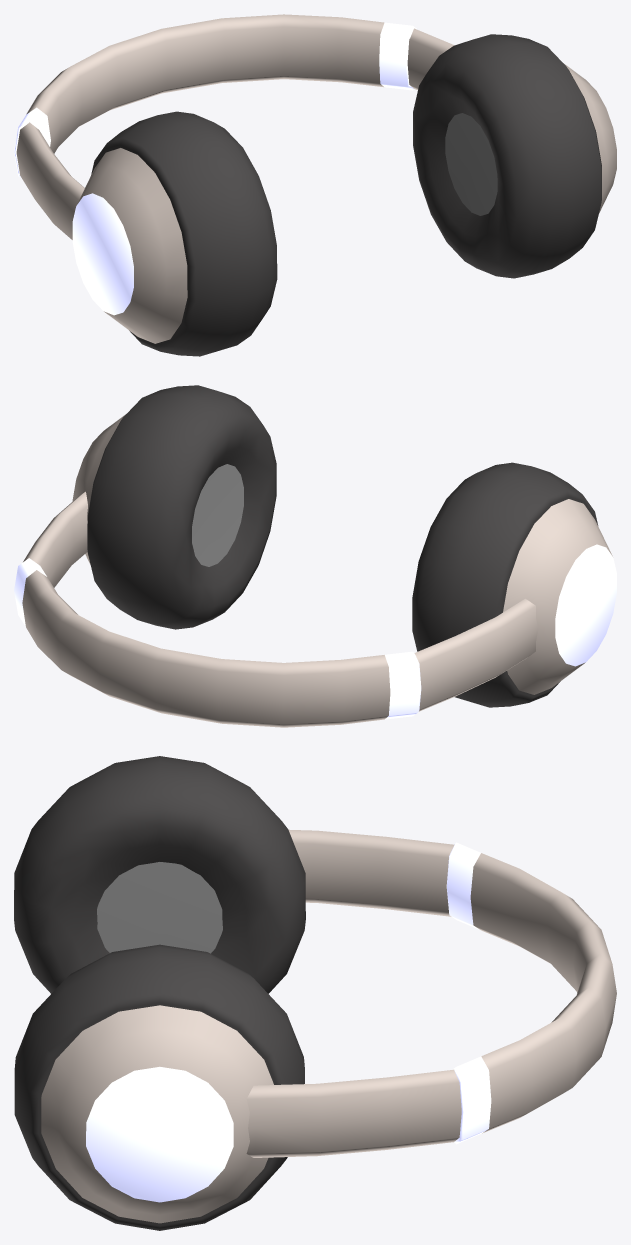
Rendered from Headphones_1.glb.
3 views of the same model, one above another, from view 1: azimuth 30°, elevation 25°; view 2: azimuth 150°, elevation 25°; view 3: azimuth 270°, elevation 25° (orthographic). The views are drawn at different scales.
Parts seen in each view (by area): view 1: Headphones_1; view 2: Headphones_1; view 3: Headphones_1.
Part boxes in pixels (x1=…): Headphones_1: x1=14, y1=14, x2=616, y2=356; Headphones_1: x1=14, y1=385, x2=616, y2=727; Headphones_1: x1=14, y1=756, x2=616, y2=1230.
Bounding box in the file's own units: 0.1943 × 0.0861 × 0.1754.
Materials: 2 (1 with a texture image).
